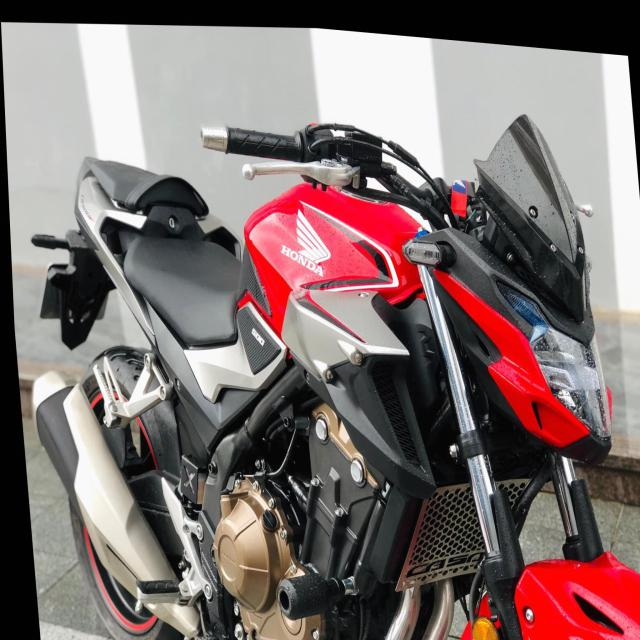CB500F: (2, 48, 640, 640)
